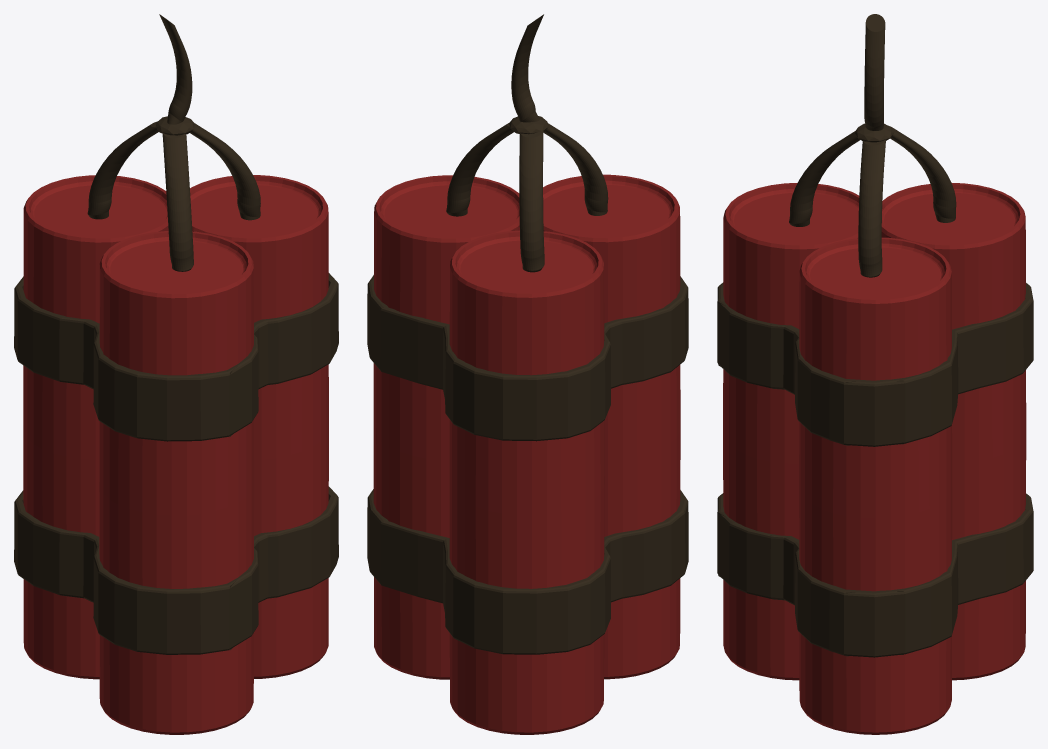
Rendered from Dynamite.fbx.
3 views of the same model, side by side, from view 1: azimuth 30°, elevation 25°; view 2: azimuth 150°, elevation 25°; view 3: azimuth 270°, elevation 25° (orthographic).
Visible parts, largest first — view 1: Clip; view 2: Clip; view 3: Clip.
Part boxes in pixels (x1=…): Clip: x1=14, y1=14, x2=338, y2=734; Clip: x1=367, y1=14, x2=688, y2=734; Clip: x1=717, y1=14, x2=1033, y2=734.
Bounding box in the file's own units: 109 × 261 × 116.
